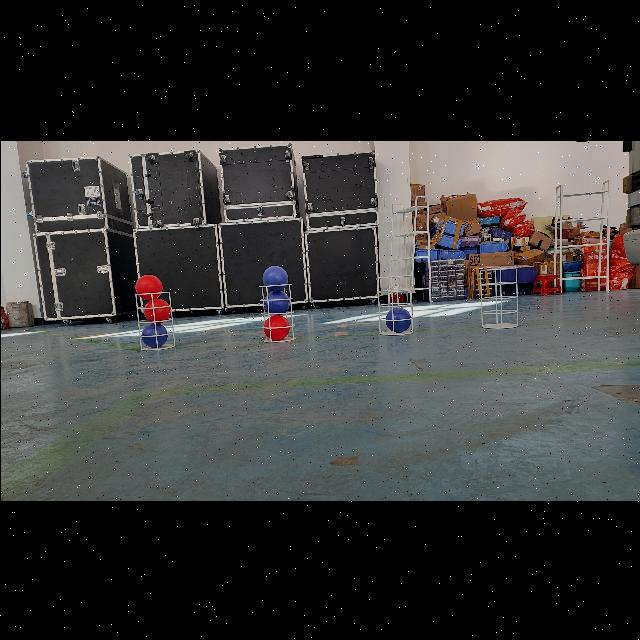B: (383, 308, 411, 332), (140, 322, 168, 346), (262, 264, 286, 290), (263, 290, 289, 314)
R: (263, 314, 289, 341), (143, 296, 169, 322), (134, 274, 162, 298)
S: (474, 265, 522, 331), (130, 290, 178, 352), (373, 270, 417, 336), (254, 280, 298, 344)
